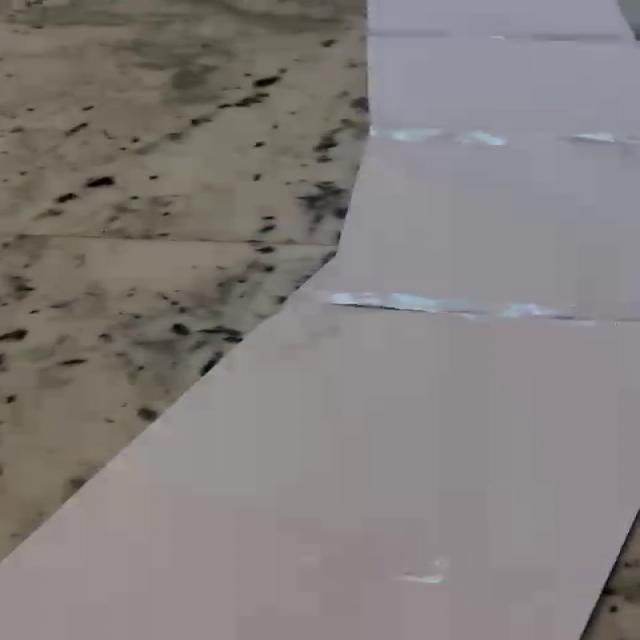road: (0, 0, 640, 640)
